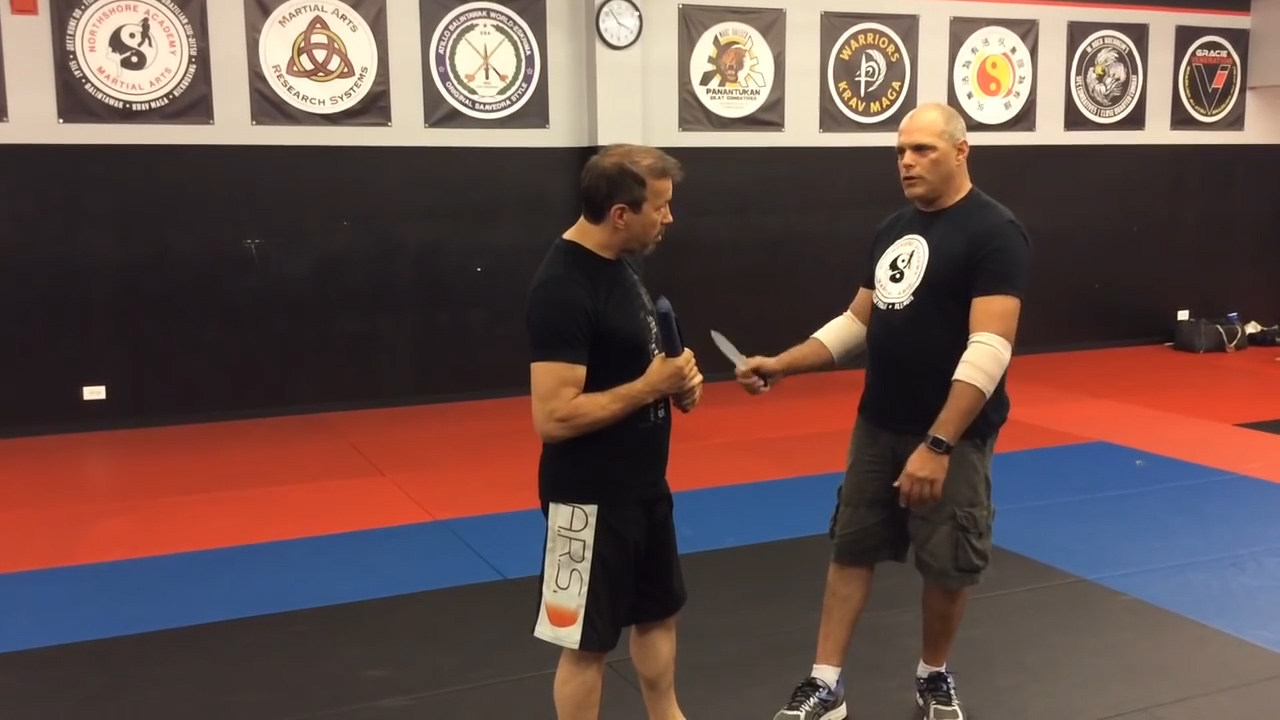knife: (706, 322, 778, 399)
